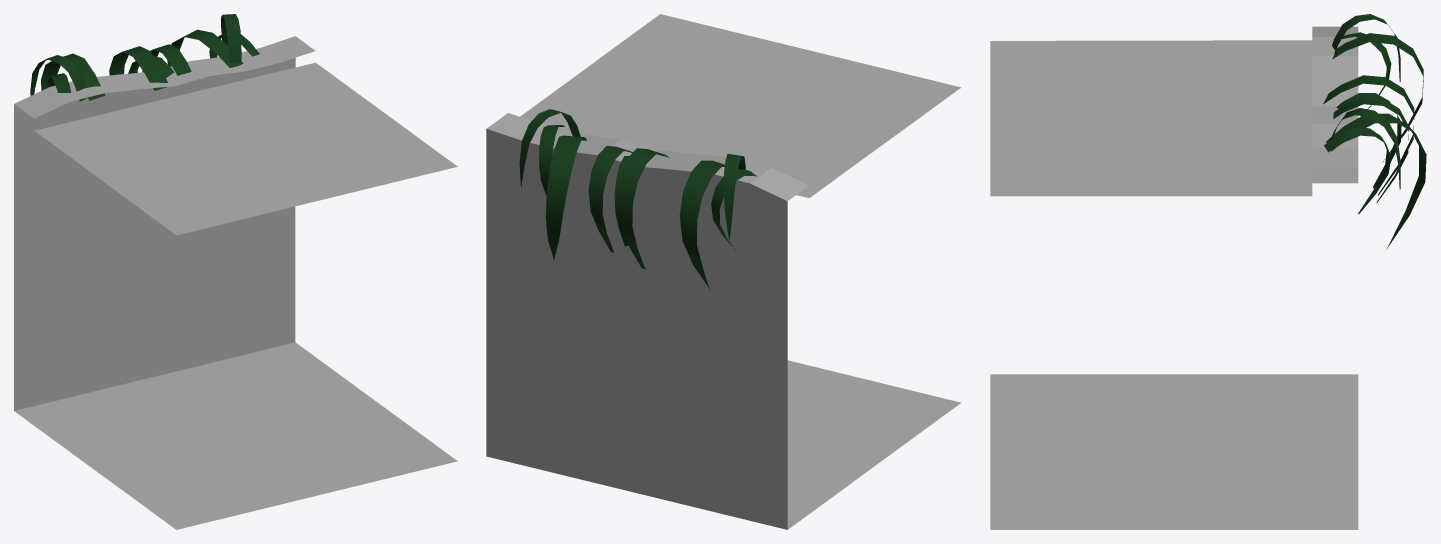
Rendered from Environment_Earth_Full_Middle_Final_001.fbx.
3 views of the same model, side by side, from view 1: azimuth 30°, elevation 25°; view 2: azimuth 150°, elevation 25°; view 3: azimuth 270°, elevation 25° (orthographic). The views are drawn at different scales.
Parts seen in each view (by area): view 1: Environment_Earth_Full_Middle_003; view 2: Environment_Earth_Full_Middle_003; view 3: Environment_Earth_Full_Middle_003.
Boxes of the visible parts, x1,y1,x2,y2 form: Environment_Earth_Full_Middle_003: (14, 14, 457, 529); Environment_Earth_Full_Middle_003: (486, 14, 961, 529); Environment_Earth_Full_Middle_003: (990, 14, 1426, 529).
Size of the model in its own units: 100 by 115 by 119.
